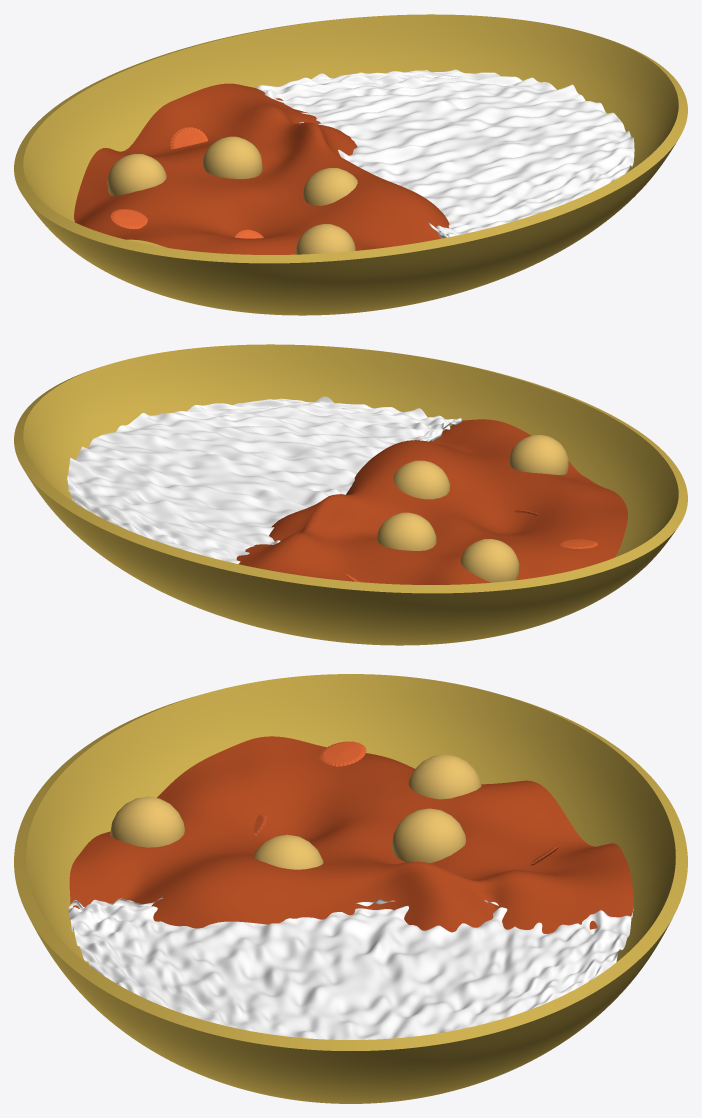
File: kare.glb
The picture shows the model from 3 angles, top to bottom: view 1: azimuth 30°, elevation 25°; view 2: azimuth 150°, elevation 25°; view 3: azimuth 270°, elevation 25°; orthographic projection. The views are drawn at different scales.
Visible parts, largest first — view 1: 球, 球.002, 球.001, ICO球, 円柱, 円柱.002; view 2: 球, 球.002, 球.001, ICO球; view 3: 球, 球.001, 球.002, ICO球, 円柱.
Boxes of the visible parts, box(x1,y1,x2,y2) form: 球: box(14, 14, 687, 315); 球.002: box(256, 69, 634, 238); 球.001: box(74, 83, 449, 254); ICO球: box(107, 136, 357, 254); 円柱: box(110, 209, 147, 229); 円柱.002: box(170, 127, 207, 149); 球: box(14, 344, 687, 645); 球.002: box(67, 396, 461, 563); 球.001: box(236, 419, 627, 584); ICO球: box(376, 435, 568, 582); 球: box(14, 674, 687, 1103); 球.001: box(69, 736, 633, 933); 球.002: box(68, 897, 633, 1039); ICO球: box(110, 754, 481, 869); 円柱: box(319, 741, 366, 766).
Size of the model in its own units: 1.26 by 0.2718 by 0.9552.
